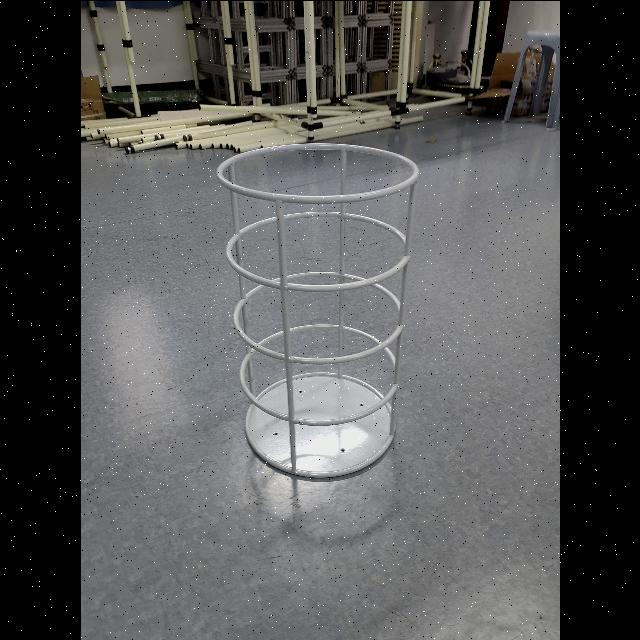S: (212, 138, 420, 482)
